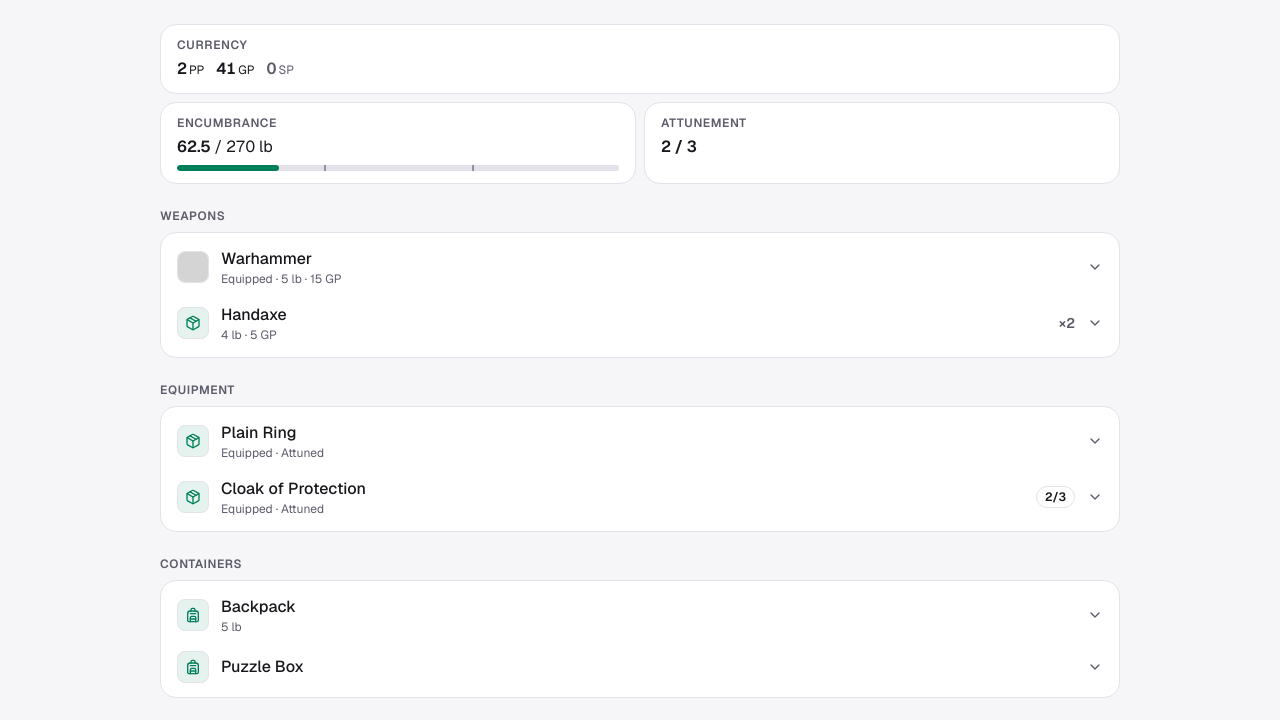
Test: components/character-sheet/inventory-tab › opens an item to its rarity, attunement and properties, and its description
Click the text "Cloak of Protection" at (293, 489), box [221,477,366,501]
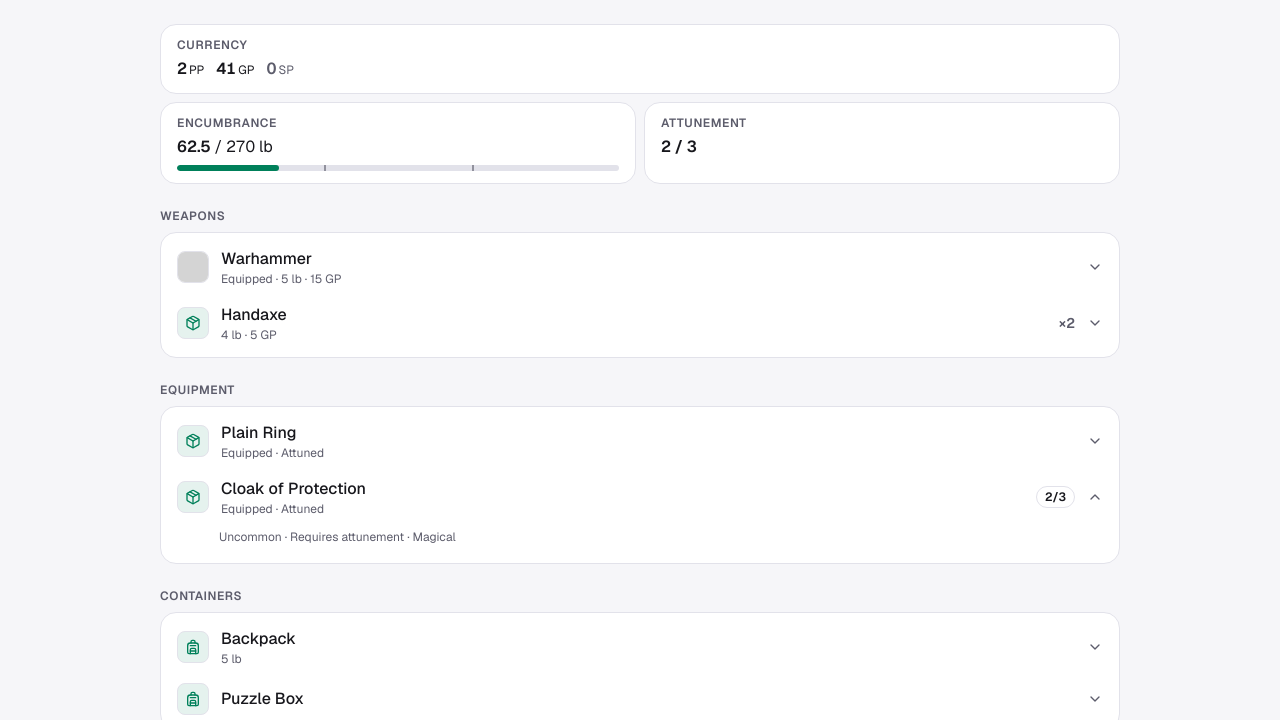
Now the text "Uncommon · Requires attunement · Magical" is shown, box [219,529,456,545]
Click the text "Warhammer" at (266, 259), box [221,247,312,271]
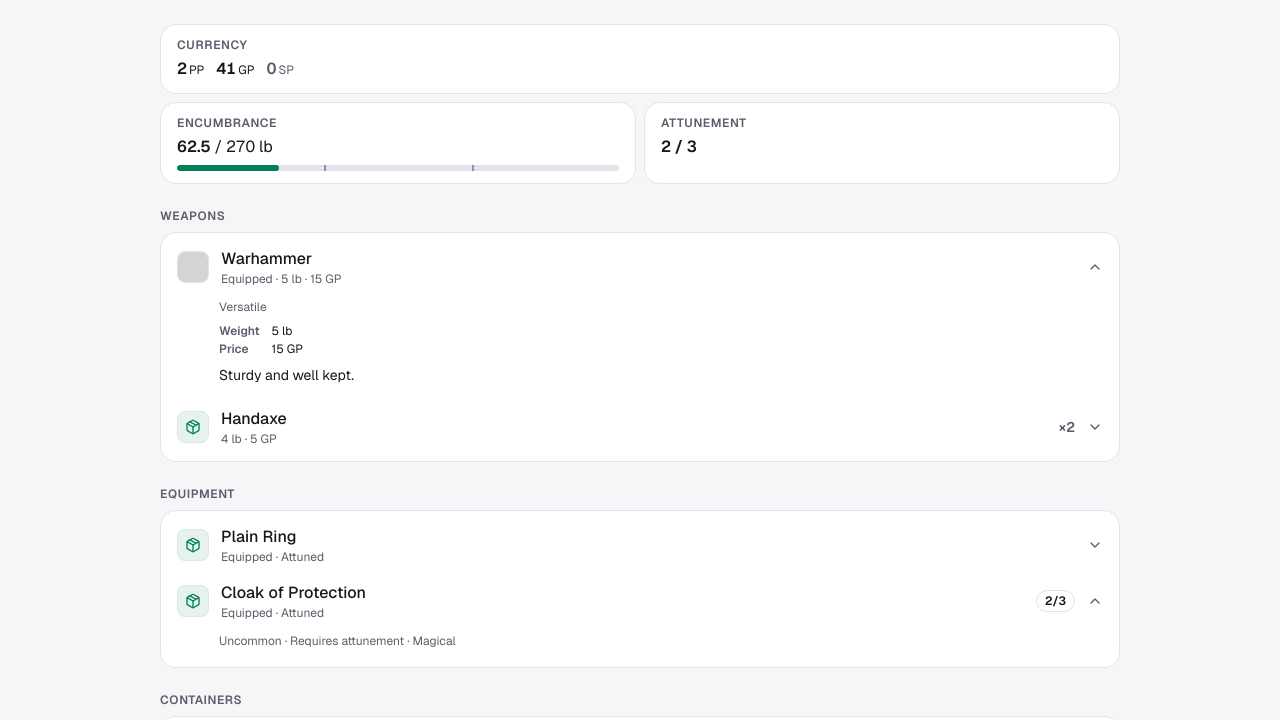
Now the text "Sturdy and well kept." is shown, box [219,366,354,384]
